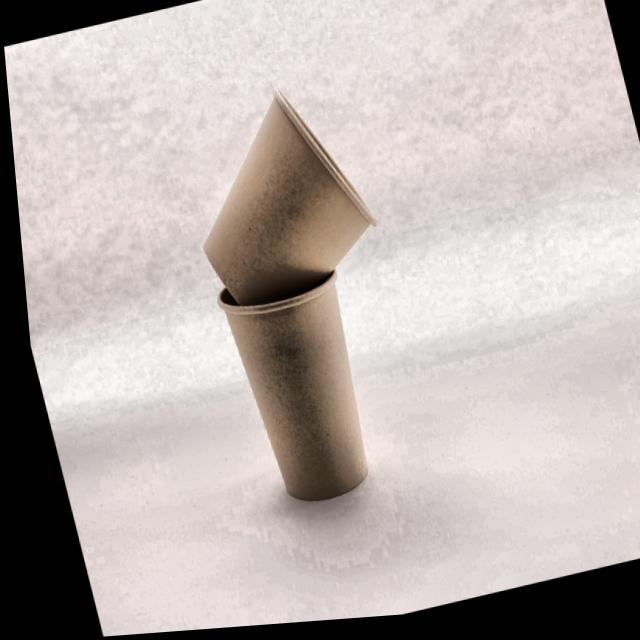Cup: (158, 65, 423, 345), (187, 250, 396, 522)
